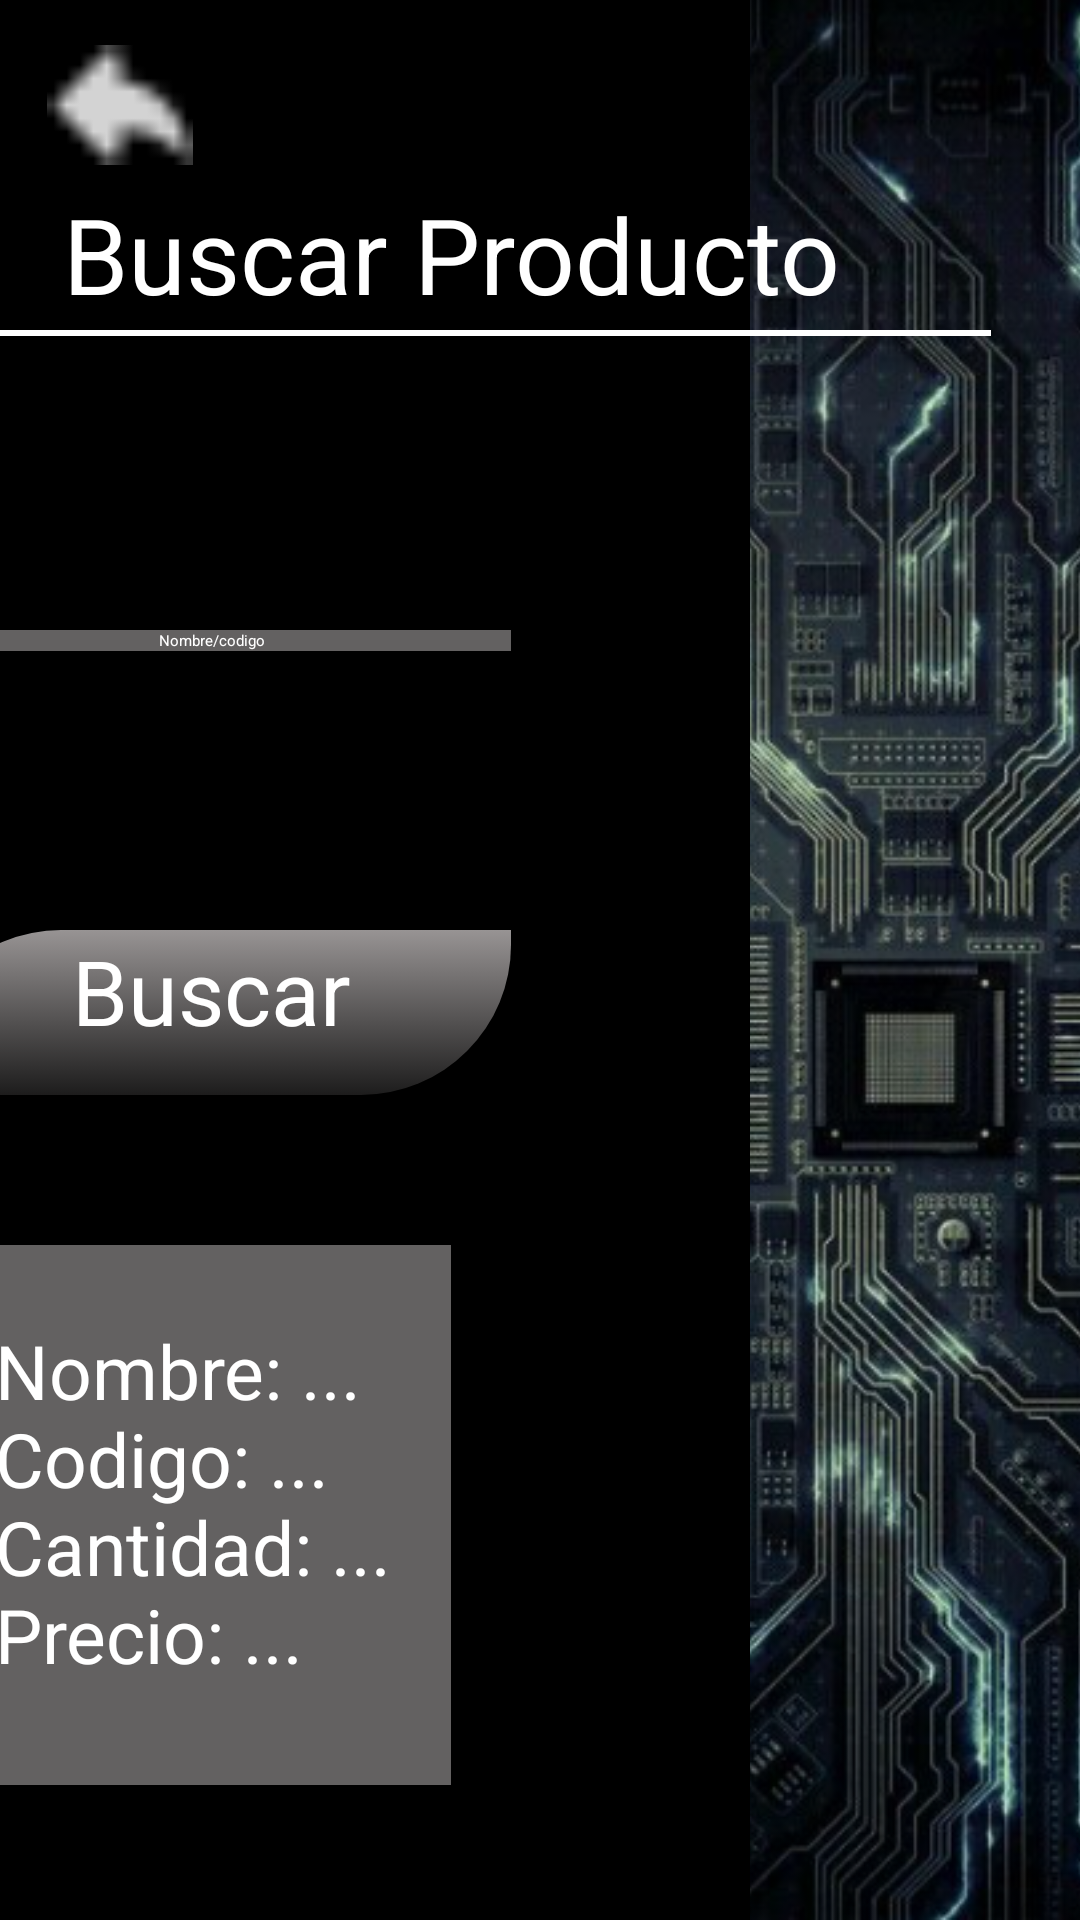

Where to tap for icons on this 1080px x 1920px app screen, as point (x, y):
flecha: point (120, 105)
